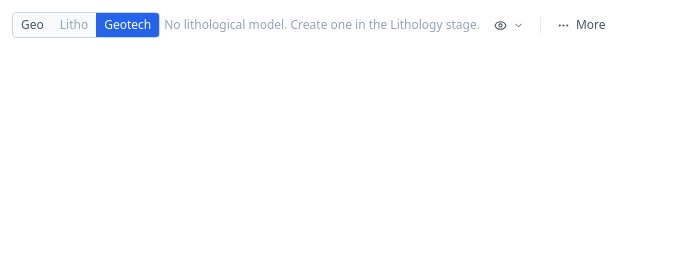
Test case: the ⋯ More menu of the Sections stage › MM2 — every display toggle is still reachable at a narrow width
The image size is (700, 272).
Click the button with test id "geotech-display-menu" at (509, 25), box [484,14,534,36]
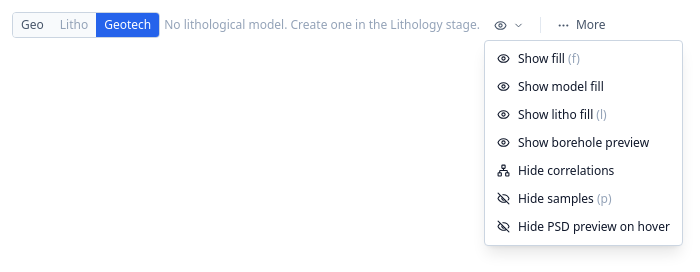
Result: the menu item with test id "geotech-toggle-fill" is shown at [485,44,682,72]
Result: the menu item with test id "geotech-toggle-model-fill" is shown at [485,72,682,100]
Result: the menu item with test id "geotech-toggle-litho-fill" is shown at [485,100,682,128]
